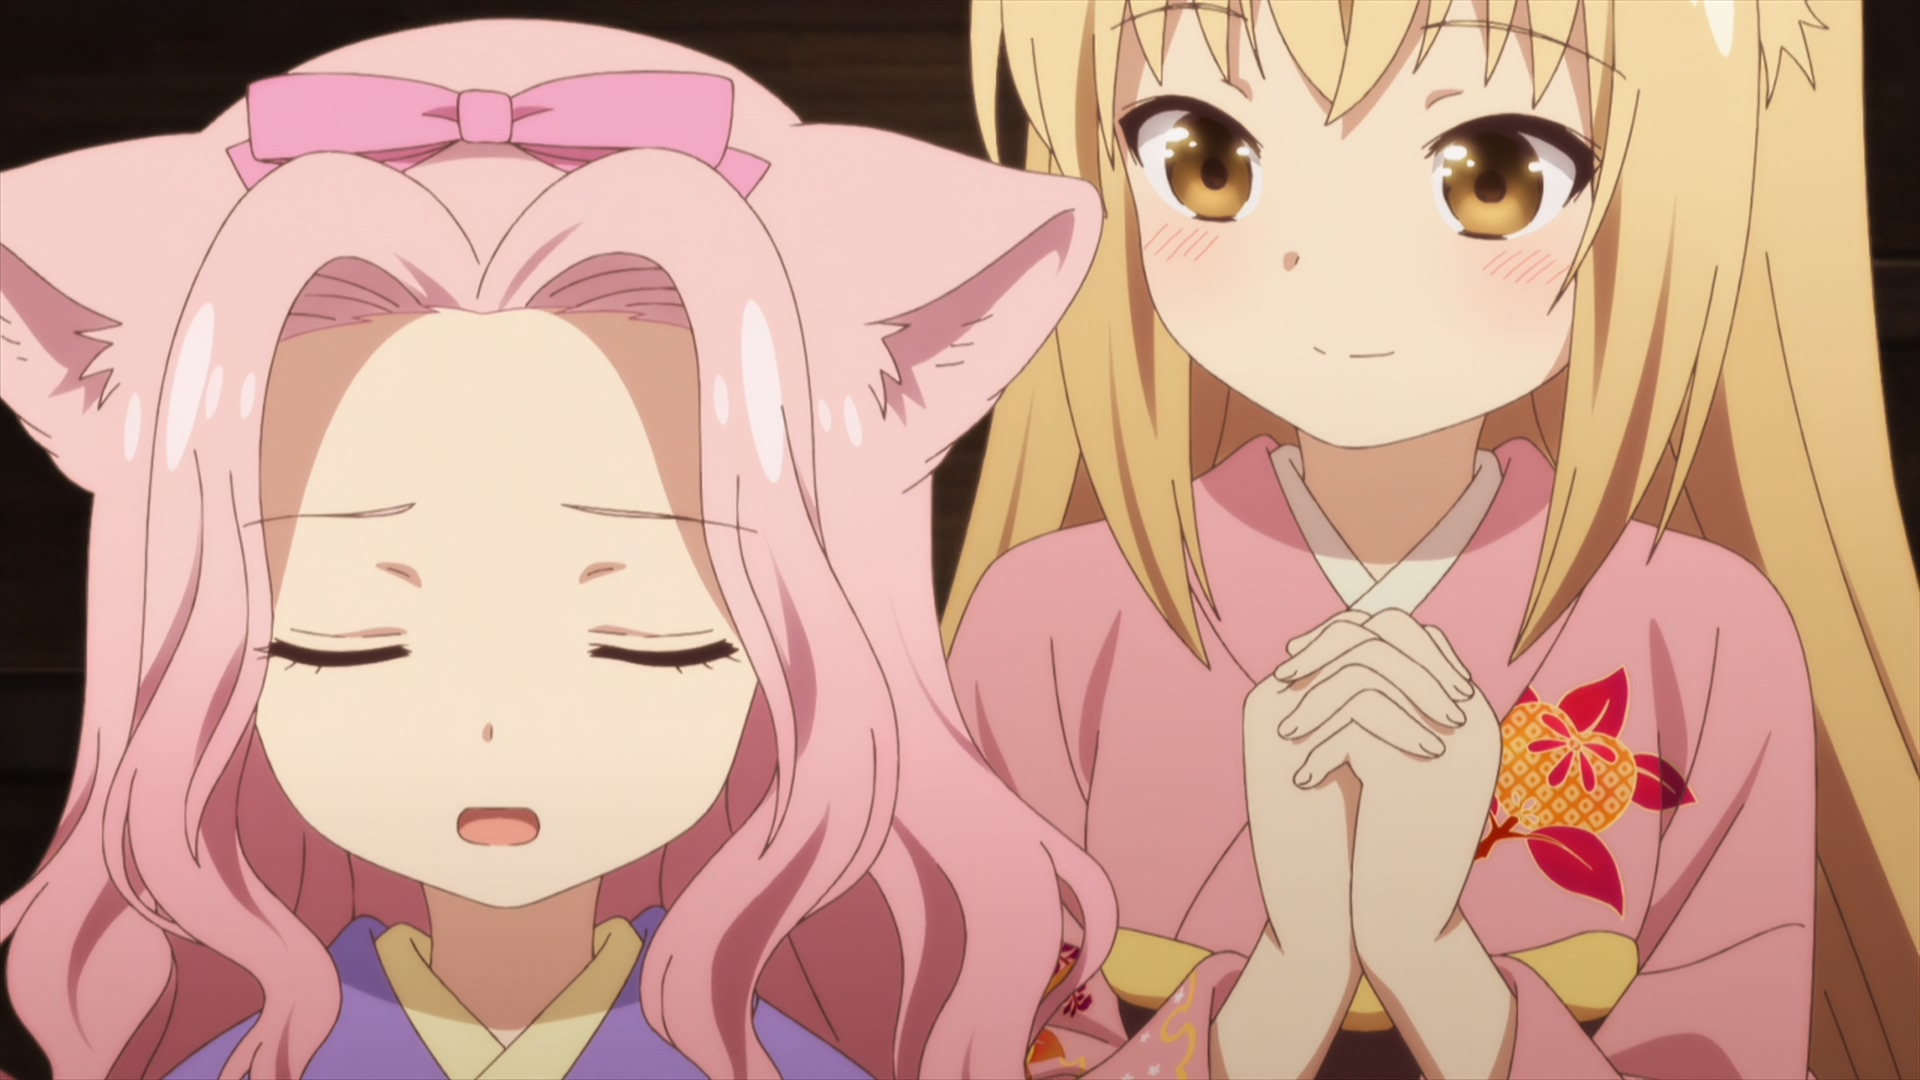柚: (942, 1, 1920, 1080)
莲: (1, 18, 1102, 1080)
